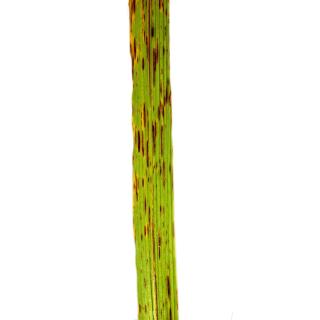Bercak-Cokelat-Sempit: (129, 0, 178, 320)
